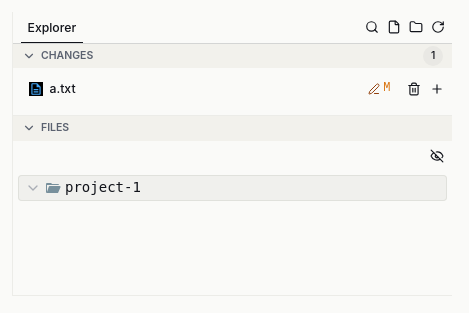
Test case: ContextWorkbench › shows a localized recoverable failed state and retries
Click the button "a.txt M" at {"x": 36, "y": 89}, box [18,71,401,107]
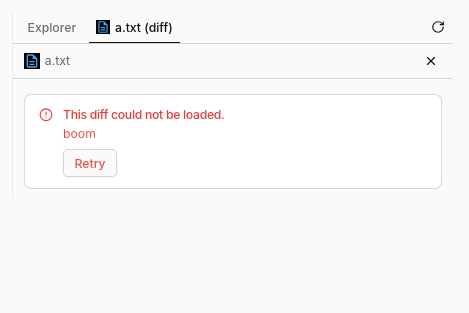
Result: the message shows "This diff could not be loaded." at [63,106,224,122]
Result: the text "boom" is shown at [63,126,96,141]
Click the button "Retry" at {"x": 90, "y": 163}, box [63,149,117,177]
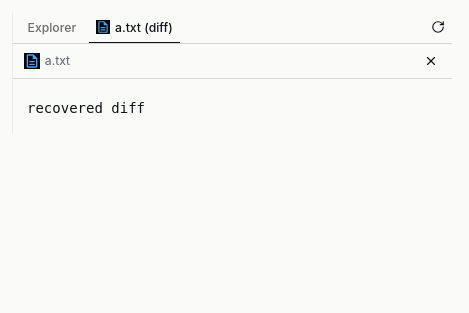
Result: the text "recovered diff" is shown at [13,84,452,133]
